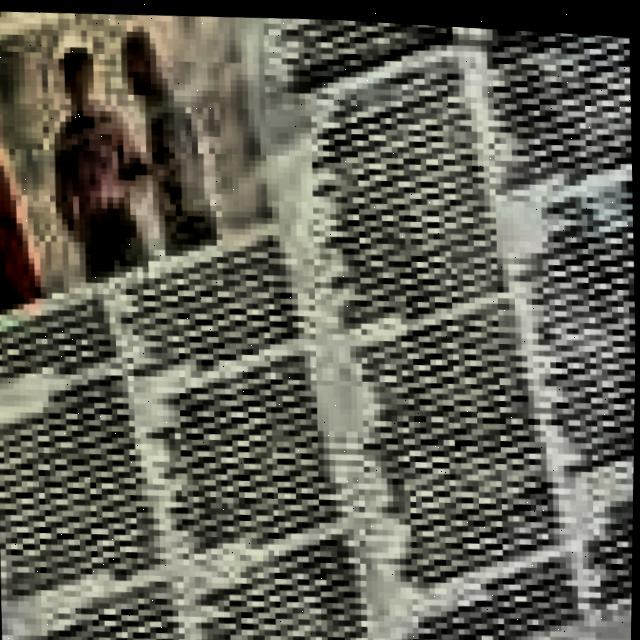paper: (0, 11, 636, 640)
